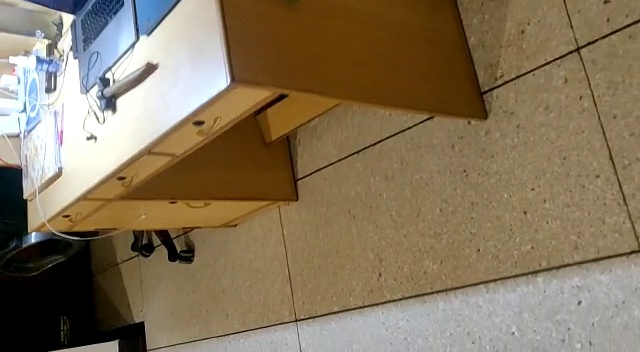hammer: (94, 60, 168, 113)
